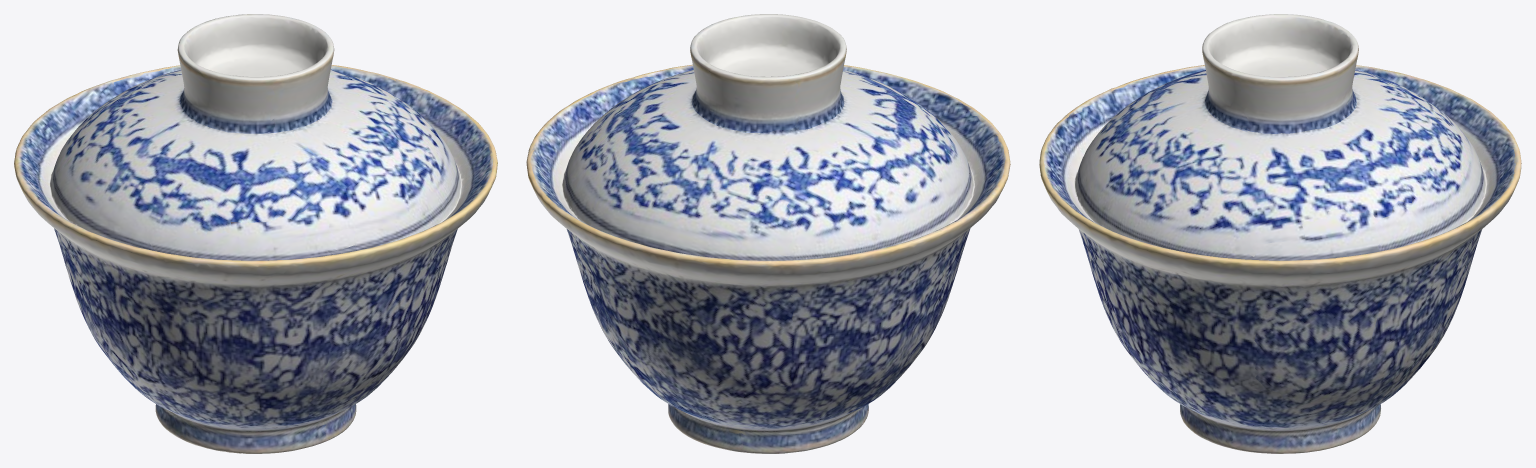
The model's file is porcelain_1.glb.
The picture shows the model from 3 angles, left to right: view 1: azimuth 30°, elevation 25°; view 2: azimuth 150°, elevation 25°; view 3: azimuth 270°, elevation 25°; orthographic projection.
Parts seen in each view (by area): view 1: geometry_0; view 2: geometry_0; view 3: geometry_0.
Part boxes in pixels (x1,y1,x2,y2): geometry_0: (14, 14, 497, 453); geometry_0: (526, 14, 1010, 453); geometry_0: (1039, 14, 1521, 453).
Bounding box in the file's own units: 1 × 0.8432 × 1.
Materials: 1 (1 with a texture image).
